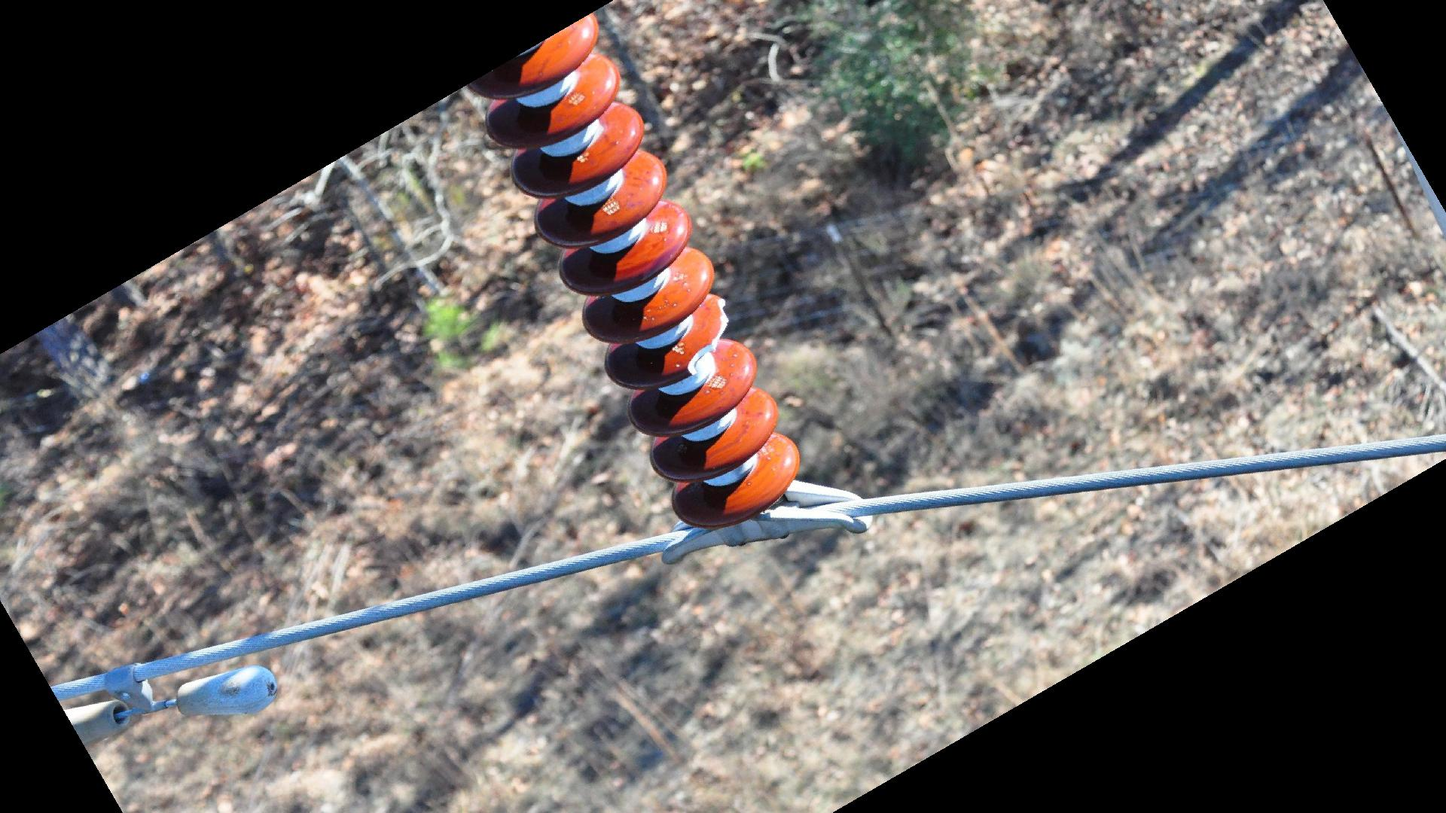insulator: (463, 11, 807, 534)
insulator_breakage: (681, 294, 731, 378)
